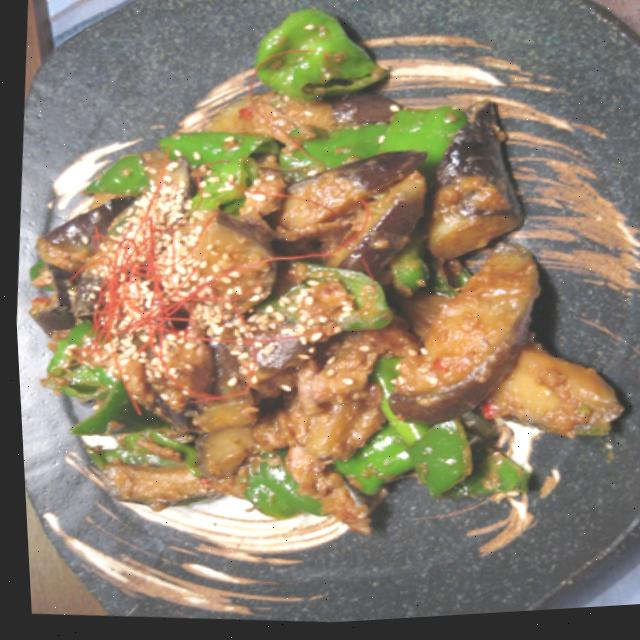鸡蛋料理: (4, 0, 640, 578)
